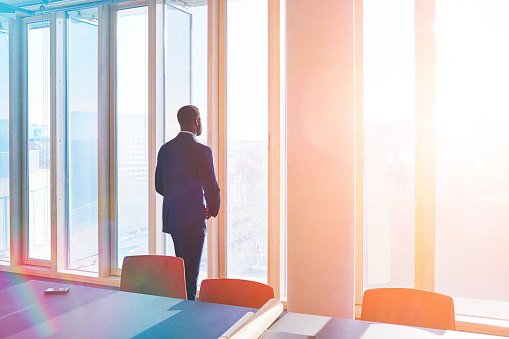em pe: (160, 108, 222, 268)
